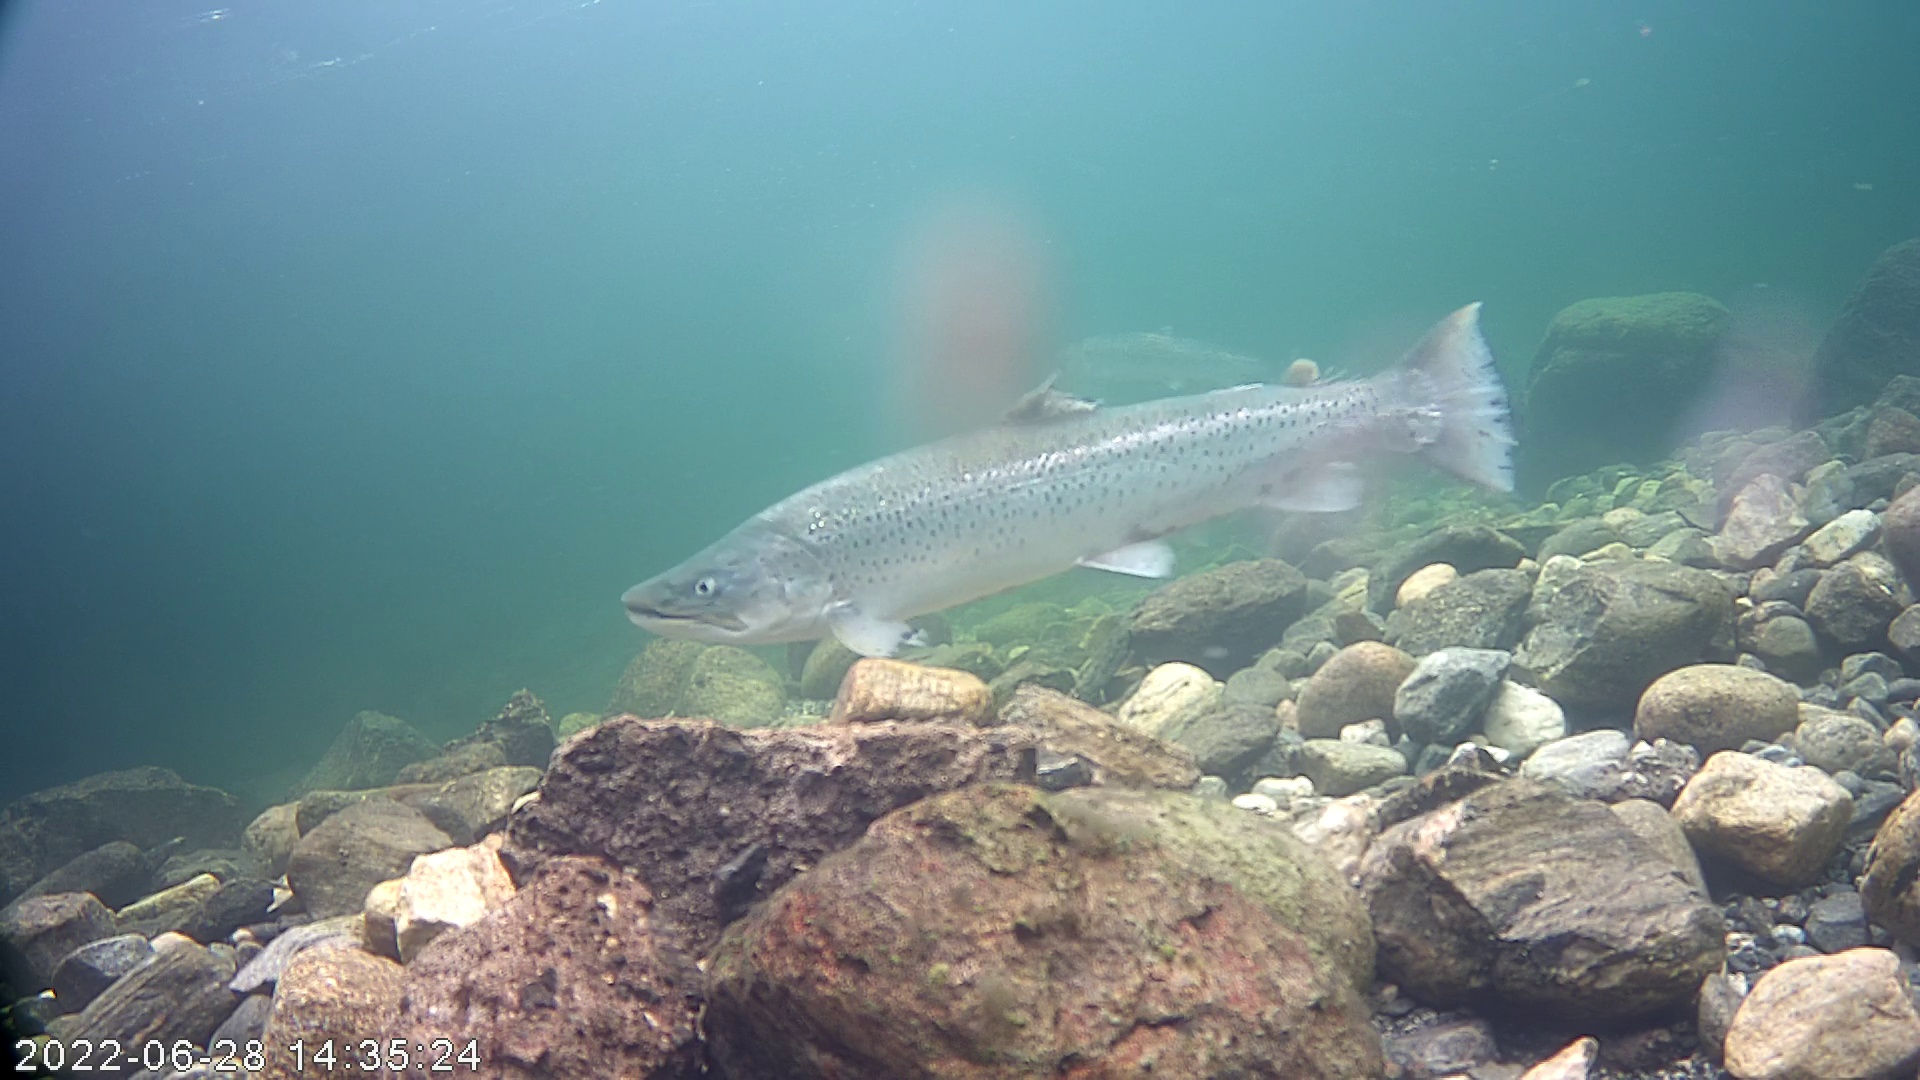salmon: (637, 236, 1547, 675)
